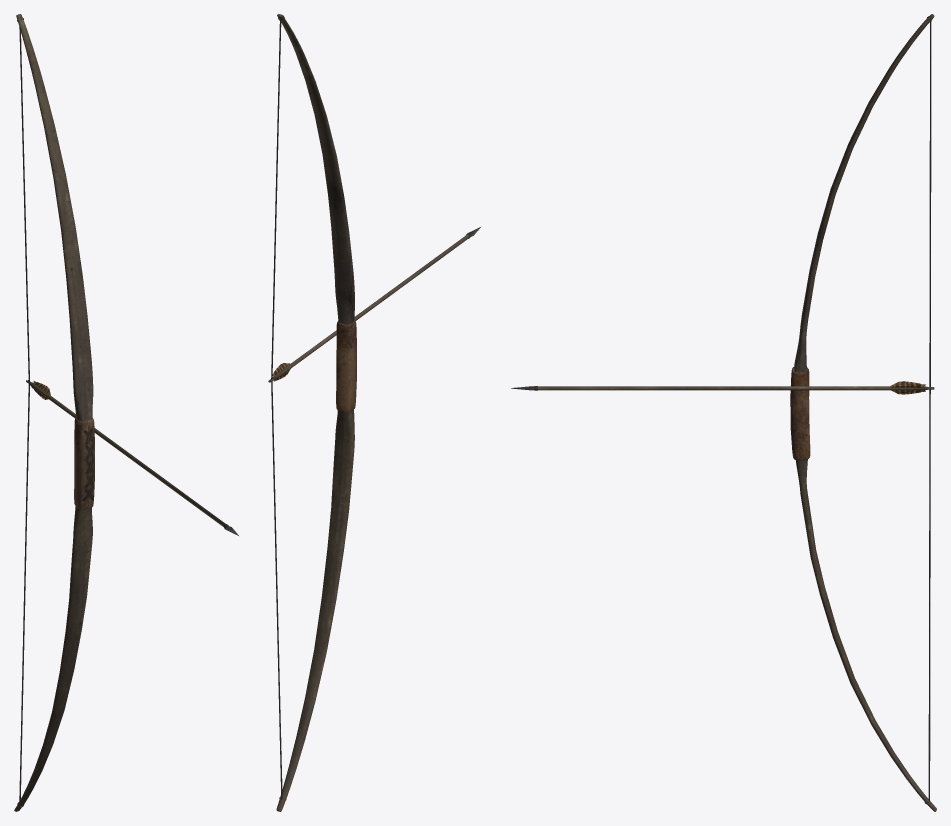
File: Weapons_LongBowB_LOD0.glb
3 views of the same model, side by side, from view 1: azimuth 30°, elevation 25°; view 2: azimuth 150°, elevation 25°; view 3: azimuth 270°, elevation 25° (orthographic).
Visible parts, largest first — view 1: Hoodie; view 2: Hoodie; view 3: Hoodie.
Part boxes in pixels (x1=…): Hoodie: x1=14, y1=14, x2=238, y2=811; Hoodie: x1=268, y1=14, x2=480, y2=811; Hoodie: x1=511, y1=14, x2=936, y2=811.
Size of the model in its own units: 0.0542 by 1.75 by 0.8482.
1 material, 1 textured.
